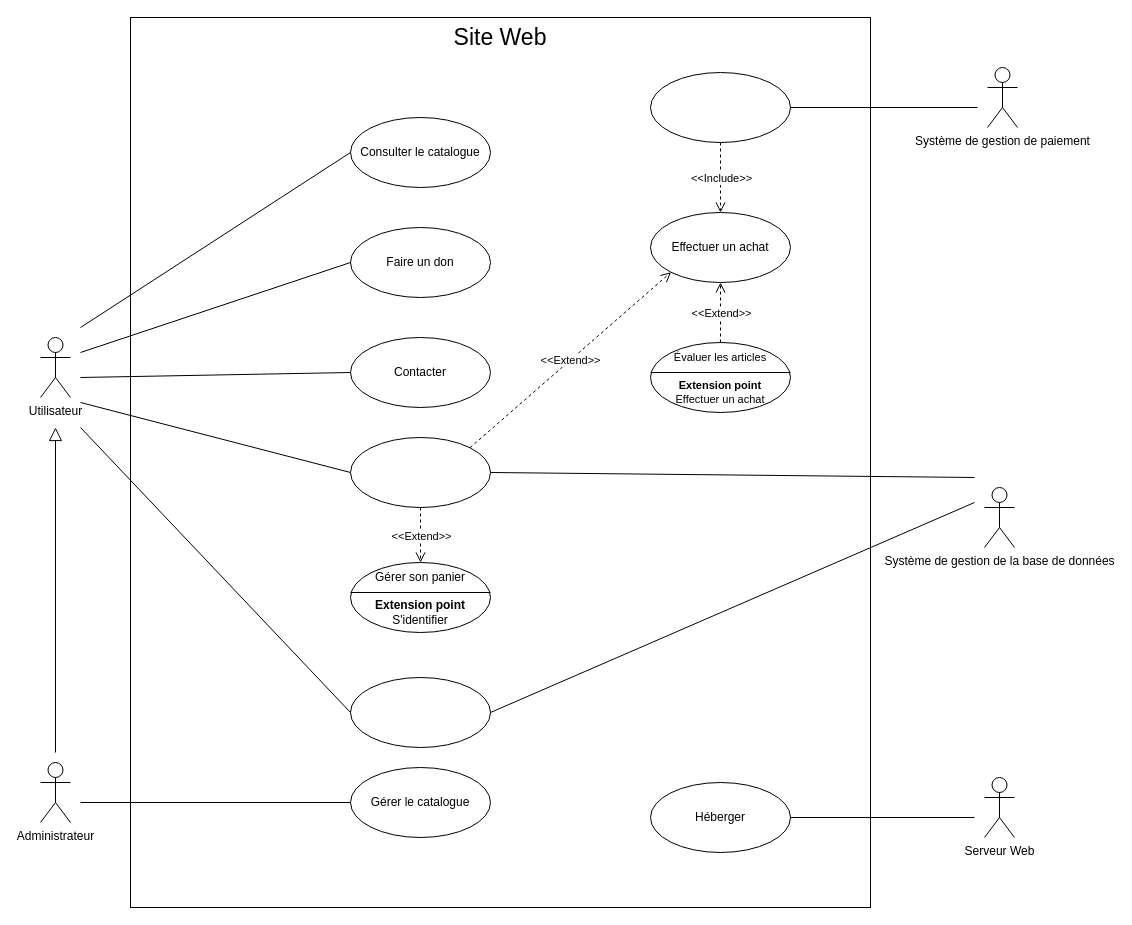
The diagram is 1132 pixels wide and 925 high, and some of its shapes have lost their labels. Each missing label, with the box of its shape:
Créer un compte: (350, 676, 490, 748)
S'identifier: (350, 436, 490, 508)
Traiter le paiement: (650, 72, 790, 142)
